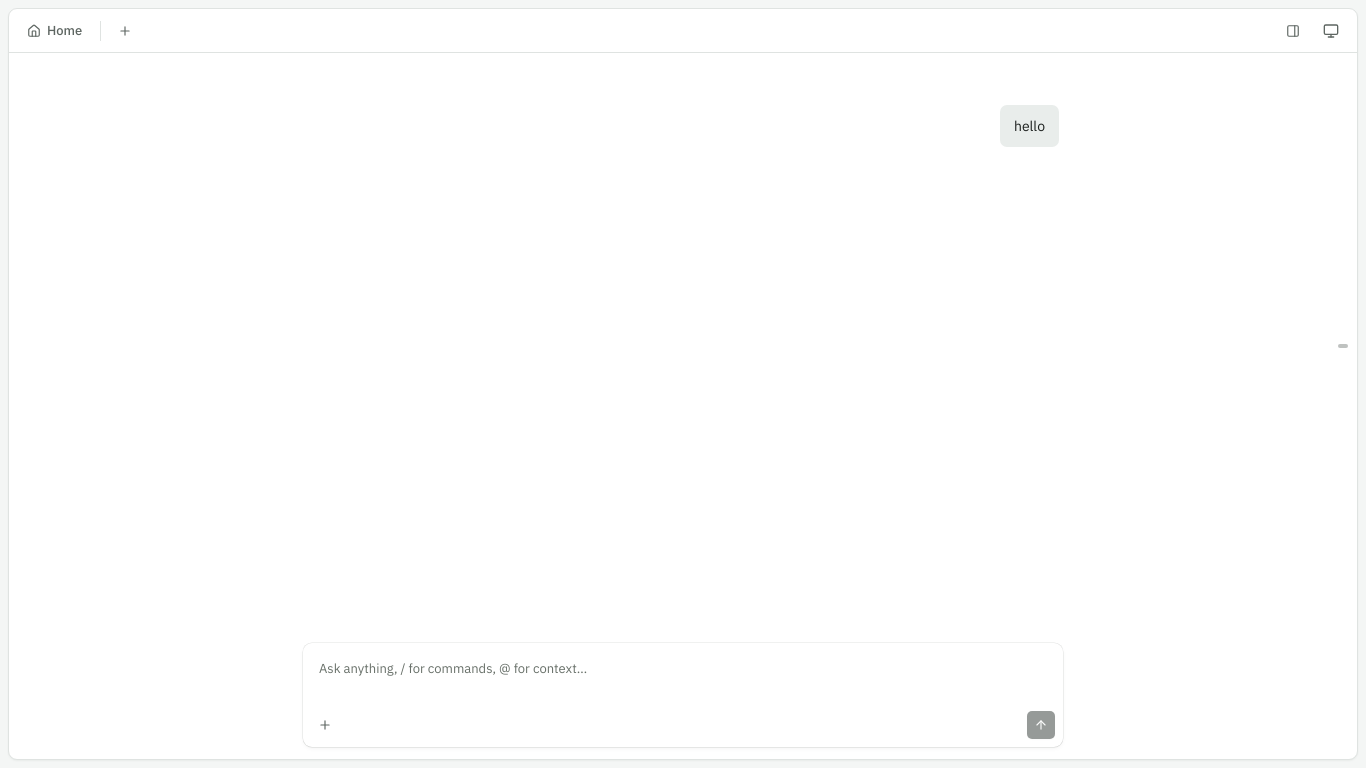
Test: SessionView › shows Jump to latest when the reader is not stuck to the end
Click the button named "jump to your message". click: [1343, 346]
box: [1338,344,1348,348]
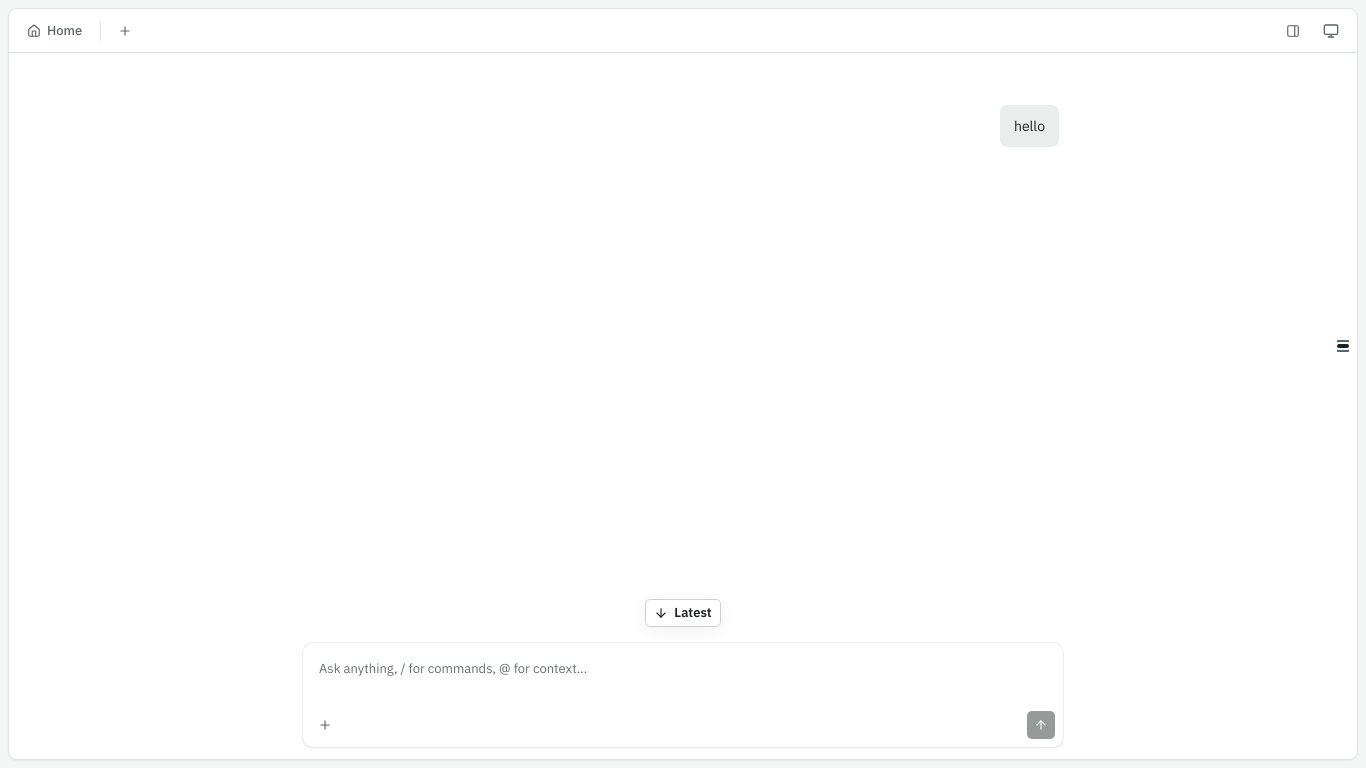
Check: the button with aria-label "jump to latest message" is shown, box [645,599,721,627]
